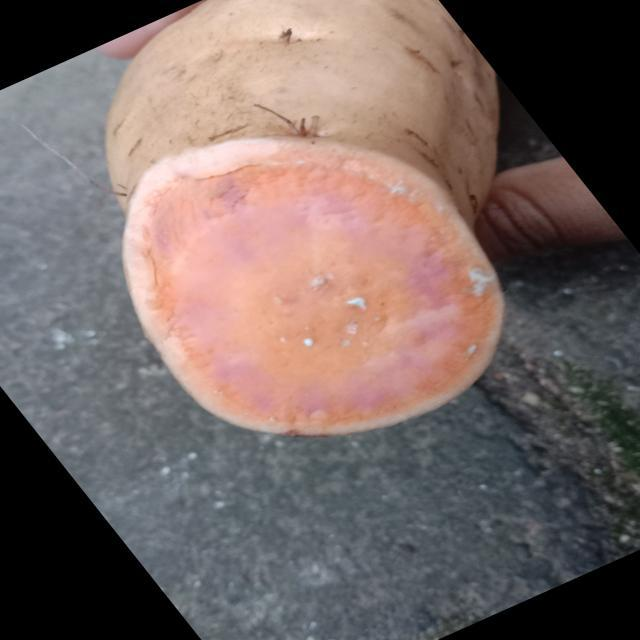Healthy Sweet Potato: (123, 139, 503, 435)
